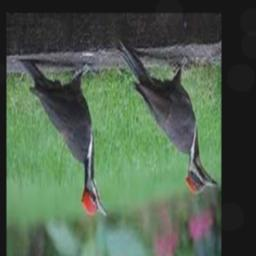Woodpecker: (117, 41, 217, 195), (19, 61, 107, 217)
